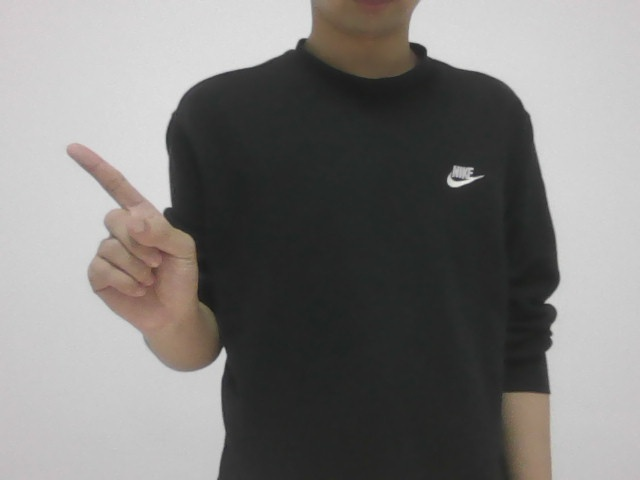what: (55, 138, 219, 352)
